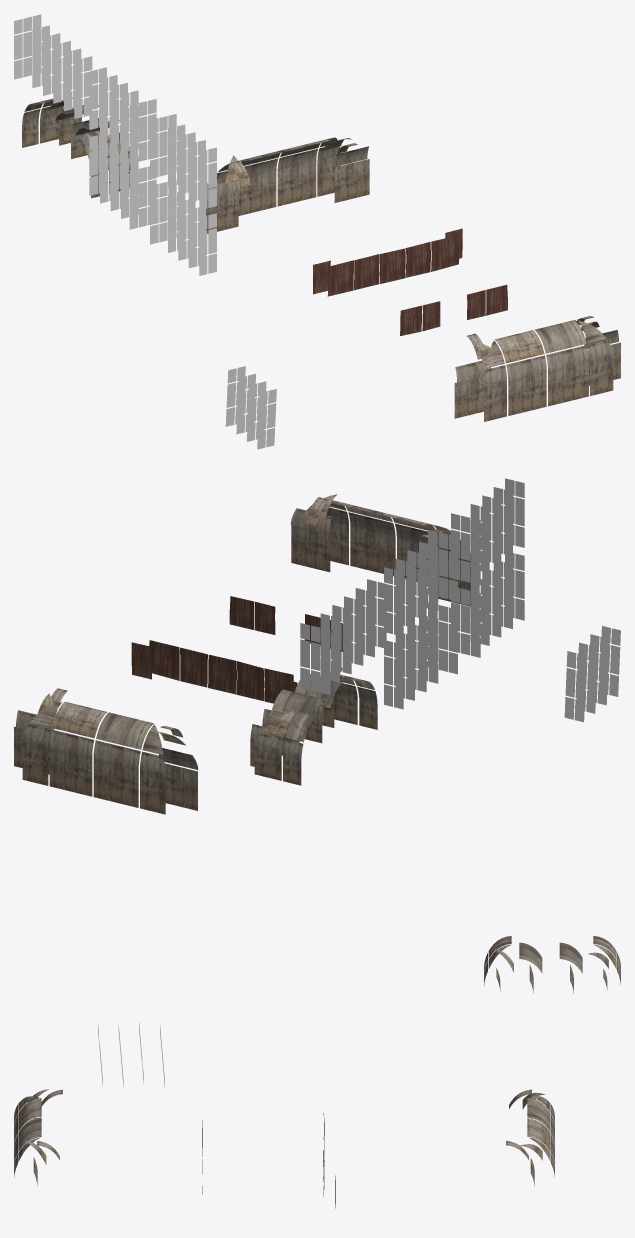
Rendered from Reeperbahn_Windows.fbx.
The picture shows the model from 3 angles, top to bottom: view 1: azimuth 30°, elevation 25°; view 2: azimuth 150°, elevation 25°; view 3: azimuth 270°, elevation 25°; orthographic projection. The views are drawn at different scales.
Parts seen in each view (by area): view 1: Reeperbahn_Windows.004, Reeperbahn_Windows.024, Reeperbahn_Windows.003, Reeperbahn_Windows.056, Reeperbahn_Windows.023, Reeperbahn_Windows.026, Reeperbahn_Windows.070, Reeperbahn_Windows.055, Reeperbahn_Windows.053, Reeperbahn_Windows.054, Reeperbahn_Windows.017, Reeperbahn_Windows.001 (+39 smaller); view 2: Reeperbahn_Windows.070, Reeperbahn_Windows.023, Reeperbahn_Windows.004, Reeperbahn_Windows.024, Reeperbahn_Windows.053, Reeperbahn_Windows.006, Reeperbahn_Windows.054, Reeperbahn_Windows.056, Reeperbahn_Windows.055, Reeperbahn_Windows.036, Reeperbahn_Windows.044, Reeperbahn_Windows.021 (+49 smaller); view 3: no part large enough to name.
Boxes of the visible parts, x1,y1,x2,y2 form: Reeperbahn_Windows.004: (548, 360, 588, 406); Reeperbahn_Windows.024: (277, 161, 316, 206); Reeperbahn_Windows.003: (508, 371, 546, 415); Reeperbahn_Windows.056: (129, 99, 156, 163); Reeperbahn_Windows.023: (238, 171, 276, 215); Reeperbahn_Windows.026: (334, 159, 369, 202); Reeperbahn_Windows.070: (14, 14, 41, 79); Reeperbahn_Windows.055: (129, 166, 156, 229); Reeperbahn_Windows.053: (150, 114, 176, 178); Reeperbahn_Windows.054: (150, 179, 176, 244); Reeperbahn_Windows.017: (534, 320, 586, 353); Reeperbahn_Windows.001: (454, 376, 484, 418); Reeperbahn_Windows.070: (300, 623, 330, 694); Reeperbahn_Windows.023: (93, 757, 138, 807); Reeperbahn_Windows.004: (350, 526, 395, 576); Reeperbahn_Windows.024: (49, 747, 92, 796); Reeperbahn_Windows.053: (451, 513, 480, 584); Reeperbahn_Windows.006: (291, 524, 330, 572); Reeperbahn_Windows.054: (451, 587, 480, 657); Reeperbahn_Windows.056: (428, 529, 457, 601); Reeperbahn_Windows.055: (428, 602, 457, 674); Reeperbahn_Windows.036: (96, 712, 153, 749); Reeperbahn_Windows.044: (564, 651, 586, 722); Reeperbahn_Windows.021: (164, 763, 197, 810).
Bounding box in the file's own units: 2885 × 2025 × 4626.
